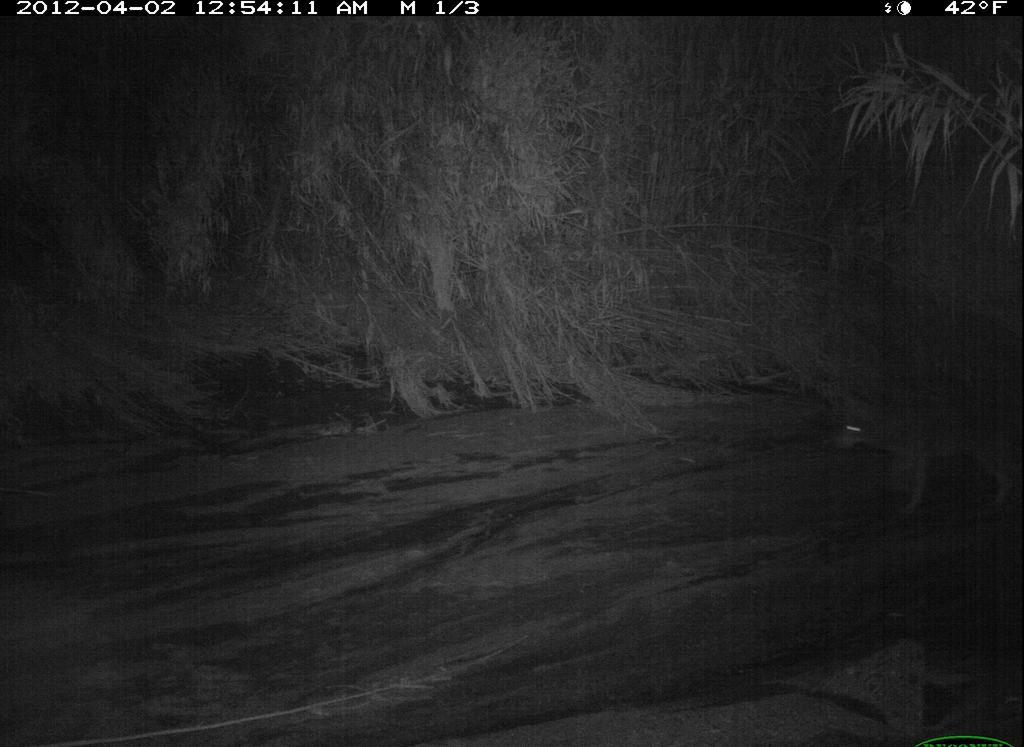coyote: (824, 396, 1023, 515)
